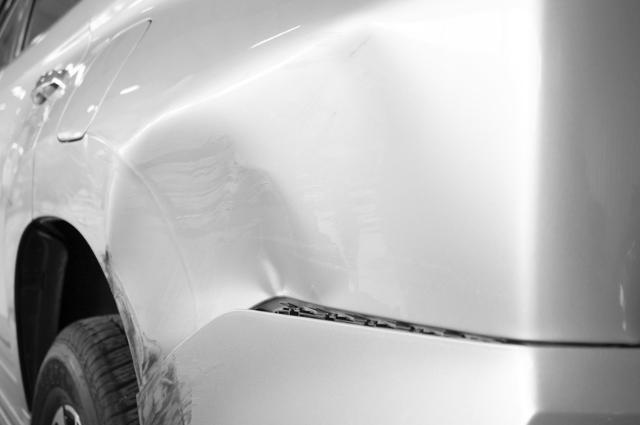Bumper: (126, 317, 640, 425)
Fender: (78, 42, 640, 323)
